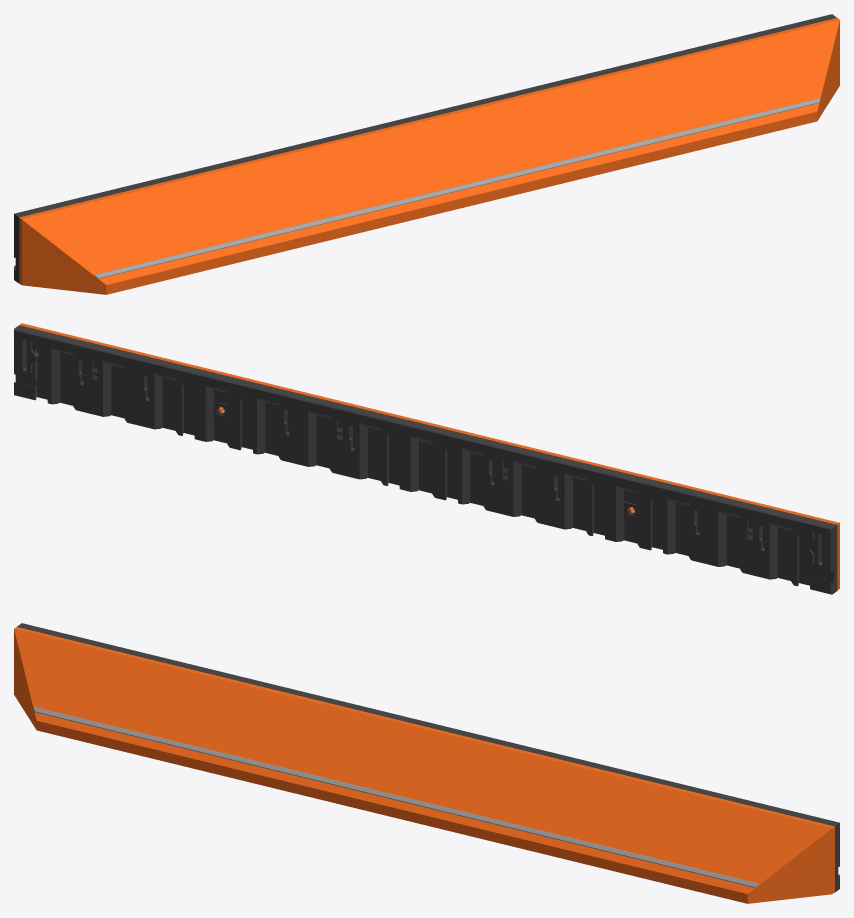
Rendered from Faceplate_ClassicDecor_4W-05H.lib.glb.
The picture shows the model from 3 angles, top to bottom: view 1: azimuth 30°, elevation 25°; view 2: azimuth 150°, elevation 25°; view 3: azimuth 330°, elevation 25°; orthographic projection.
Visible parts, largest first — view 1: Faceplate_ClassicDecor_4W-05H; view 2: Faceplate_ClassicDecor_4W-05H; view 3: Faceplate_ClassicDecor_4W-05H.
Part boxes in pixels (bbox=[...]): Faceplate_ClassicDecor_4W-05H: bbox=[14, 14, 839, 294]; Faceplate_ClassicDecor_4W-05H: bbox=[14, 323, 839, 594]; Faceplate_ClassicDecor_4W-05H: bbox=[14, 623, 839, 903].
Bounding box in the file's own units: 351 × 27.17 × 29.18.
